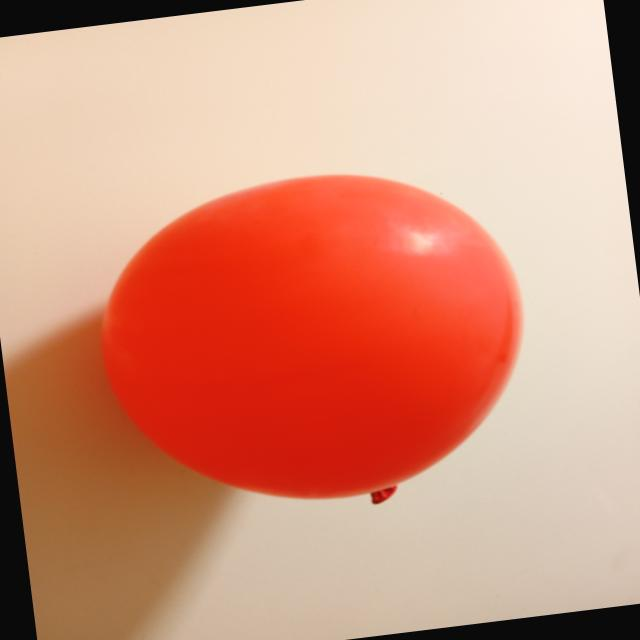balloon: (101, 175, 521, 502)
